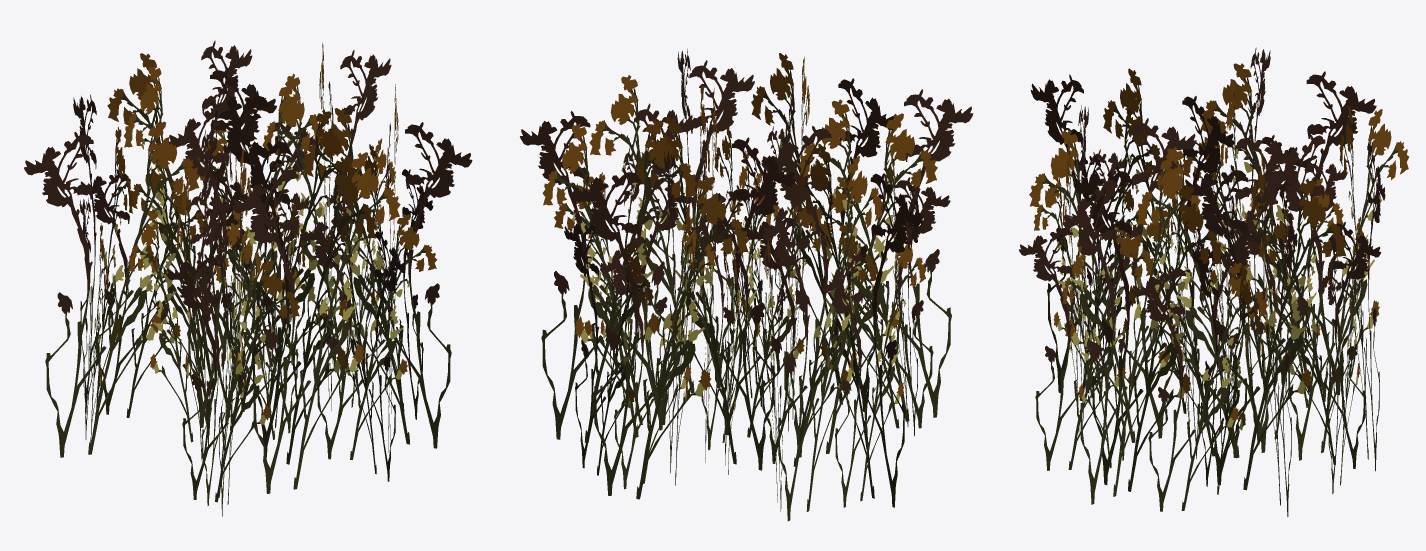
The model's file is space_weed_3.fbx.
3 renders of one model, left to right at view 1: azimuth 30°, elevation 25°; view 2: azimuth 150°, elevation 25°; view 3: azimuth 270°, elevation 25°, orthographic. The views are drawn at different scales.
Visible parts, largest first — view 1: Cube_33; view 2: Cube_33; view 3: Cube_33.
Part boxes in pixels (x1,y1,x2,y2): Cube_33: (24, 40, 472, 516); Cube_33: (520, 49, 973, 521); Cube_33: (1019, 47, 1408, 516).
Bounding box in the file's own units: 84.74 × 67.74 × 74.35.
1 material, 1 textured.
